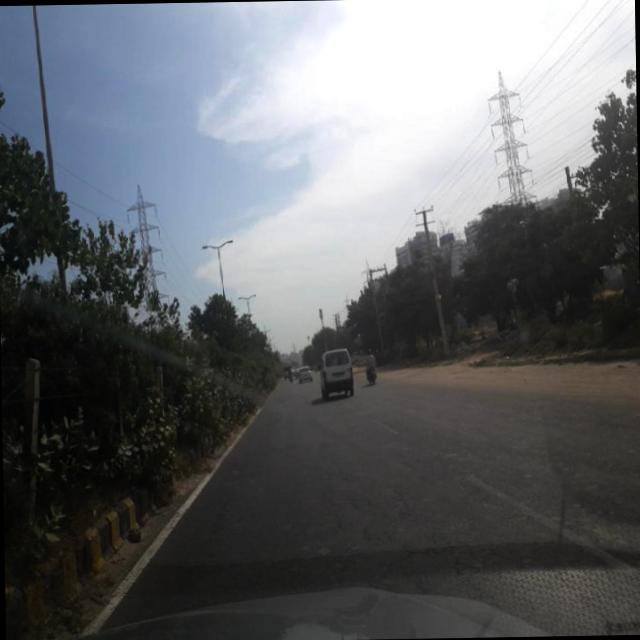crack: (187, 388, 634, 610)
